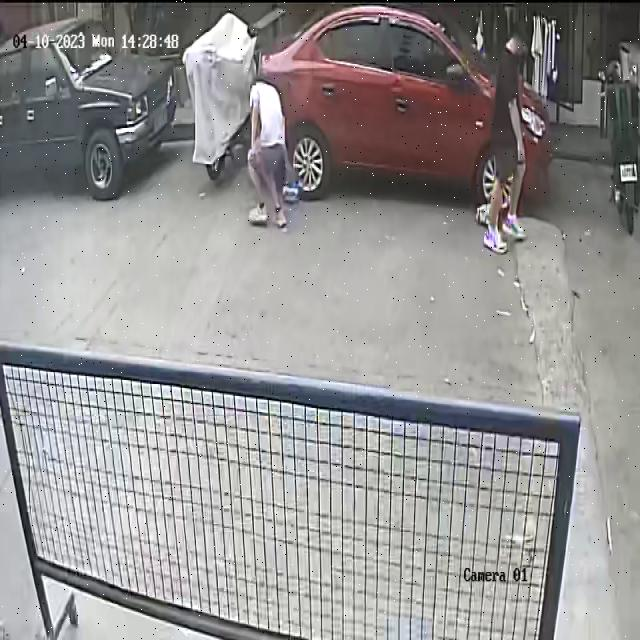human: (247, 75, 301, 232)
trash: (278, 175, 302, 204)
